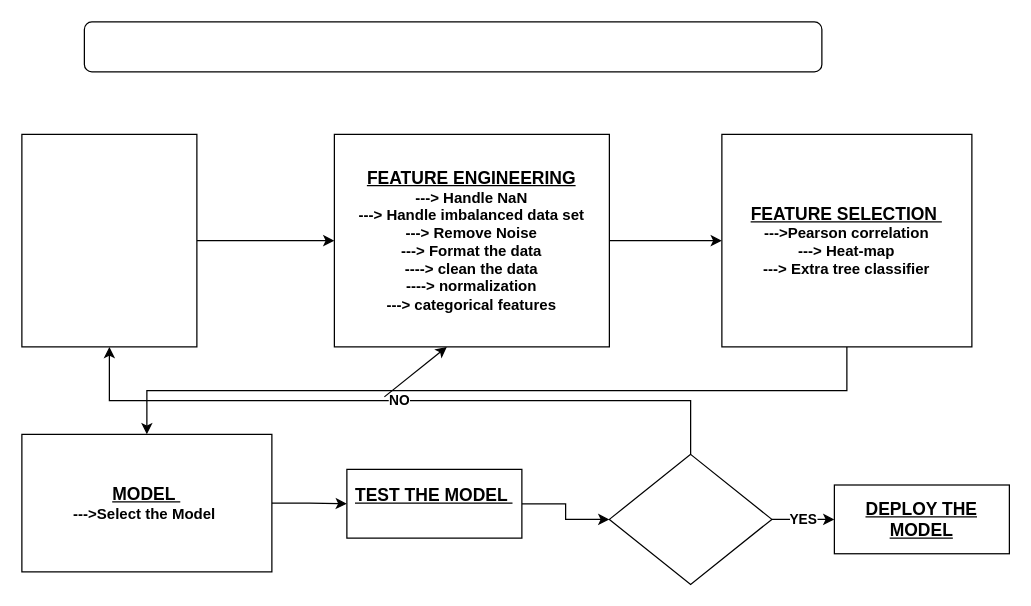
The diagram is 1031 pixels wide and 606 high, and some of its shapes have lost their labels. Here are the shapes that lost their labels. From the top down, the centre of each, then its label:
pixel 452 46: LIFE CYCLE OF A DATA SCIENCE PROJECT
pixel 109 240: DATA GATHERING ---> web scraping ---> 3rd party APIs ---> Big Data Eng
pixel 690 518: THE MODEL WORKS?
